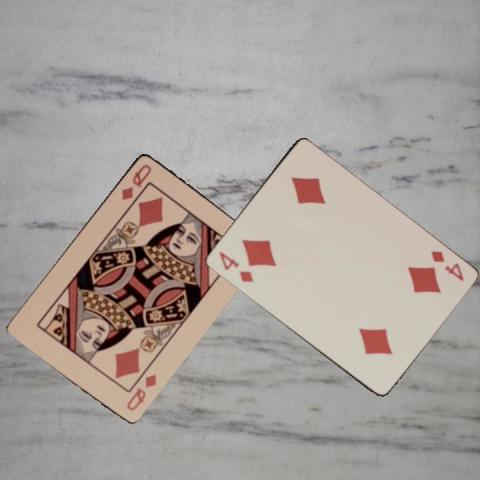4d: (428, 248, 466, 284), (215, 249, 254, 284)
Qd: (123, 371, 158, 412), (118, 161, 153, 201)
